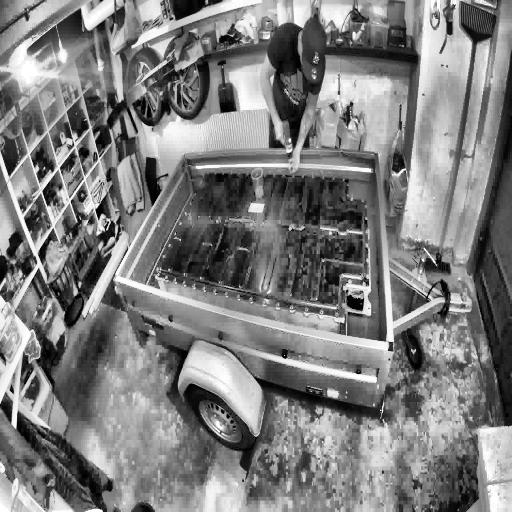b_casing: (154, 170, 370, 319)
